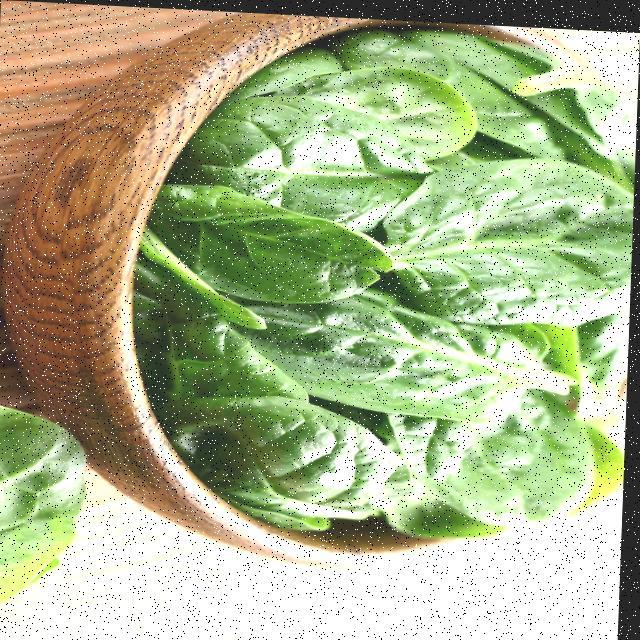Spinach: (113, 5, 640, 558)
